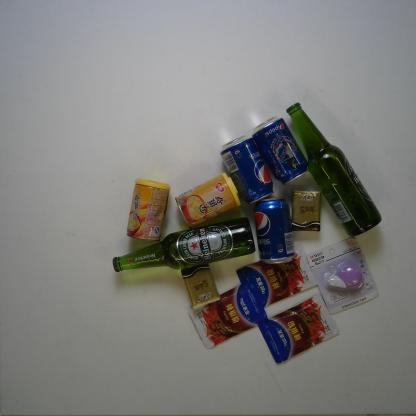Alcohol: (286, 98, 382, 238), (112, 216, 258, 277)
Canned Food: (174, 172, 241, 226), (126, 178, 172, 244)
Drink: (251, 113, 309, 184), (218, 135, 274, 204), (255, 195, 297, 265)
Seasoner: (256, 292, 342, 364), (186, 281, 270, 349), (234, 244, 318, 309)
Stationery: (306, 236, 380, 316)
Tissue: (179, 263, 221, 310), (288, 187, 322, 234)
